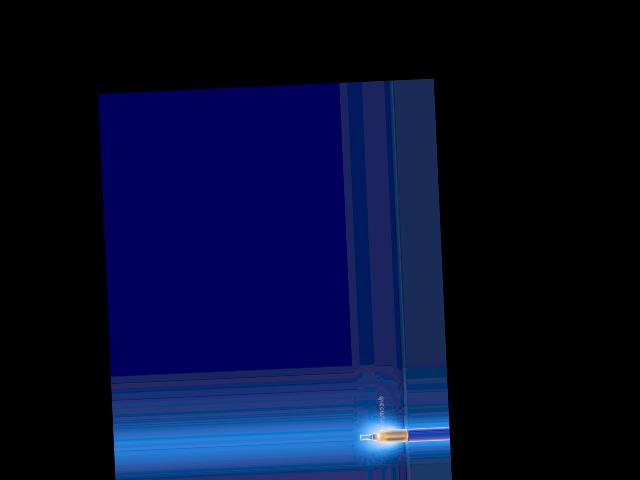beer: (360, 429, 408, 444)
